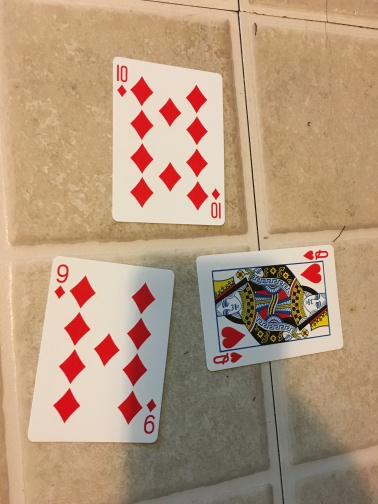nine: (27, 254, 176, 446)
queen: (196, 245, 344, 373)
ten: (111, 58, 227, 226)
